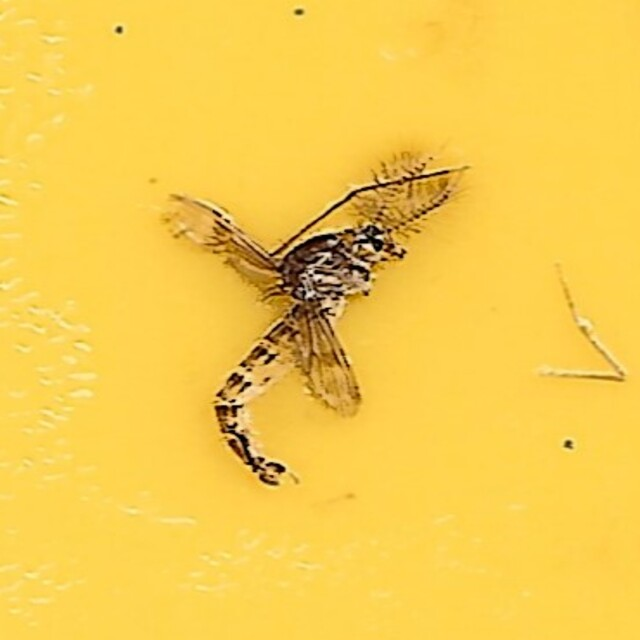Nematocera: (173, 146, 467, 494)
